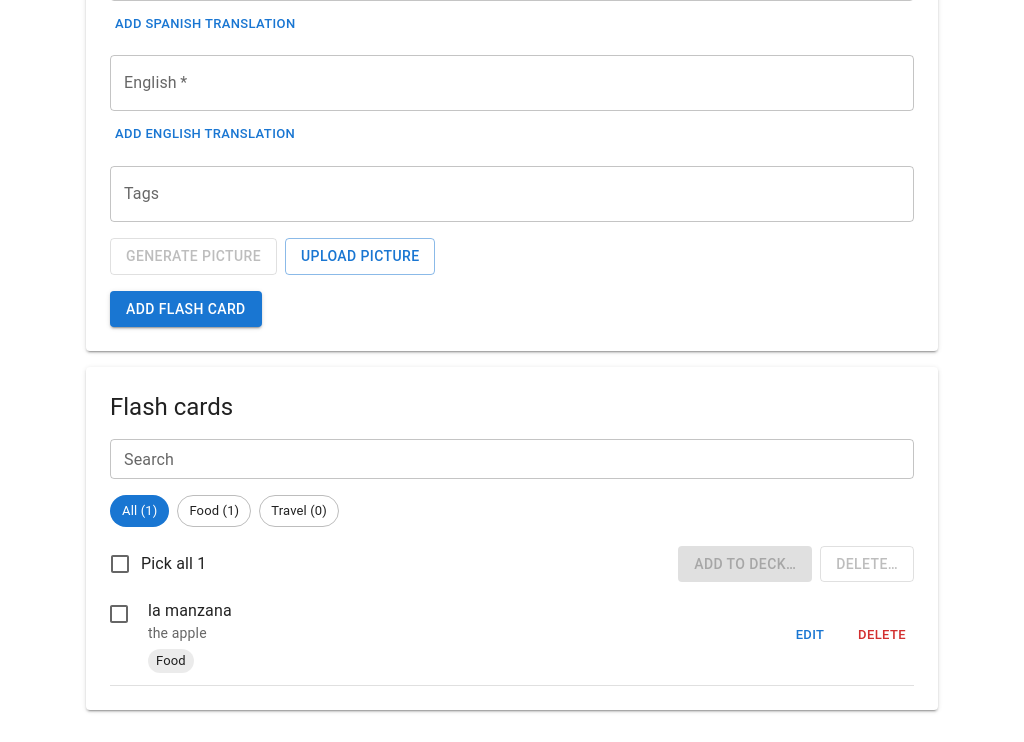
tags › says so when no card has the picked tag
(page scrolled)
Step 1. Click the button "Travel (0)" → (299, 511), box [259,495,339,527]
(page scrolled)
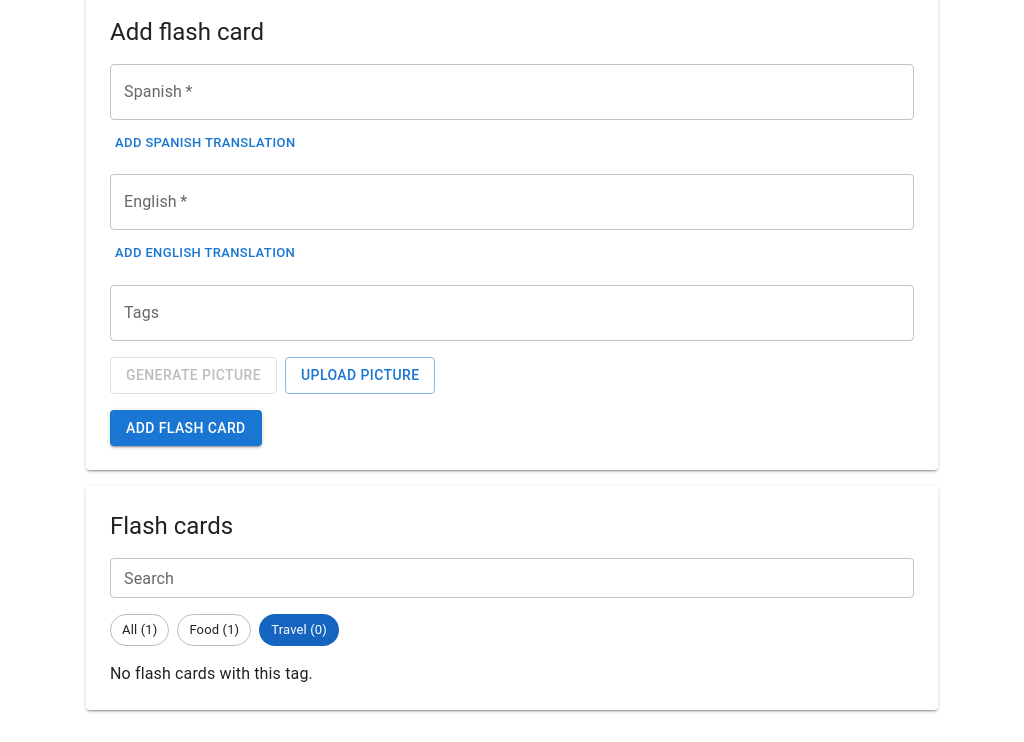
Check: the text "No flash cards with this tag." is shown, box [110,664,313,683]
